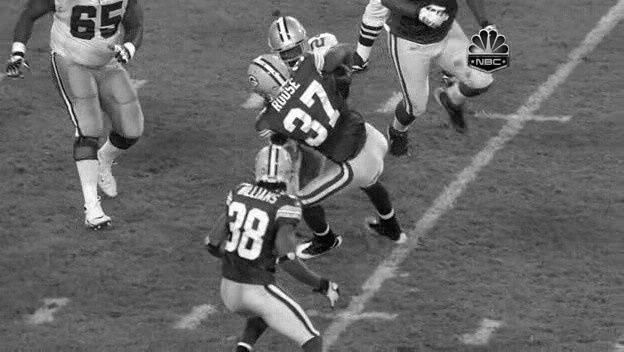person: (271, 28, 306, 72), (270, 28, 305, 72), (272, 28, 307, 72), (271, 27, 306, 71), (271, 29, 306, 73)
target_negative: (199, 63, 461, 278), (91, 302, 616, 343), (336, 147, 387, 304), (348, 290, 510, 319), (80, 136, 114, 206), (502, 335, 596, 340)
